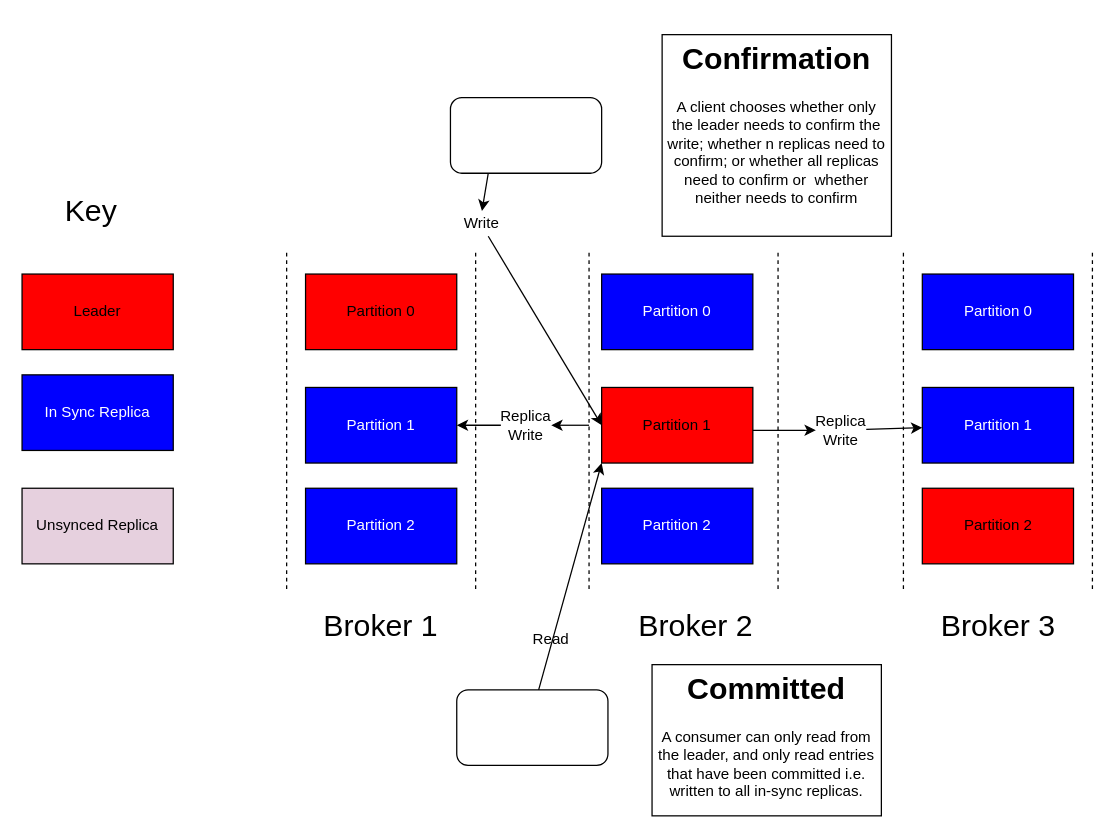
Image size: 1116x838. Some labels were removed from this diagram. The centre of each missing label's shape, as x and y in pixels:
"Consumer" goes at point 531,727.
"Producer" goes at point 525,134.
